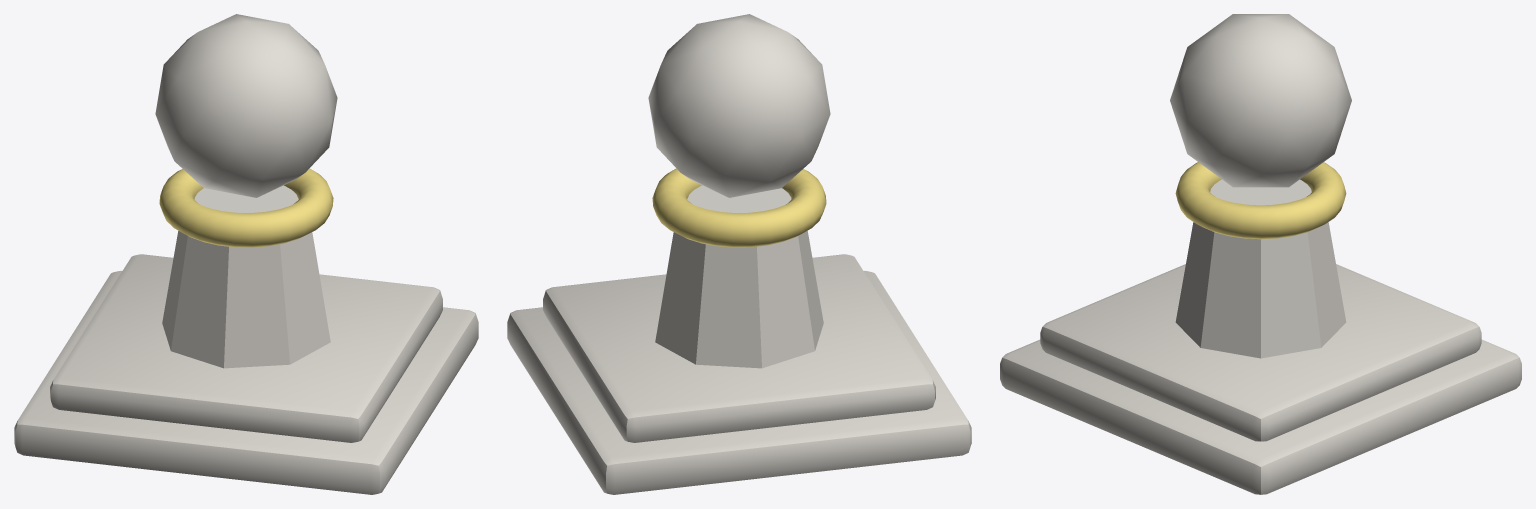
File: Cartagena_Peon.fbx
3 renders of one model, left to right at view 1: azimuth 30°, elevation 25°; view 2: azimuth 150°, elevation 25°; view 3: azimuth 270°, elevation 25°, orthographic. The views are drawn at different scales.
Visible parts, largest first — view 1: Cartagena_Peon; view 2: Cartagena_Peon; view 3: Cartagena_Peon.
Part boxes in pixels (bbox=[...]): Cartagena_Peon: bbox=[14, 14, 478, 494]; Cartagena_Peon: bbox=[507, 14, 971, 494]; Cartagena_Peon: bbox=[1000, 14, 1521, 494].
Bounding box in the file's own units: 0.9168 × 0.72 × 0.9168.
